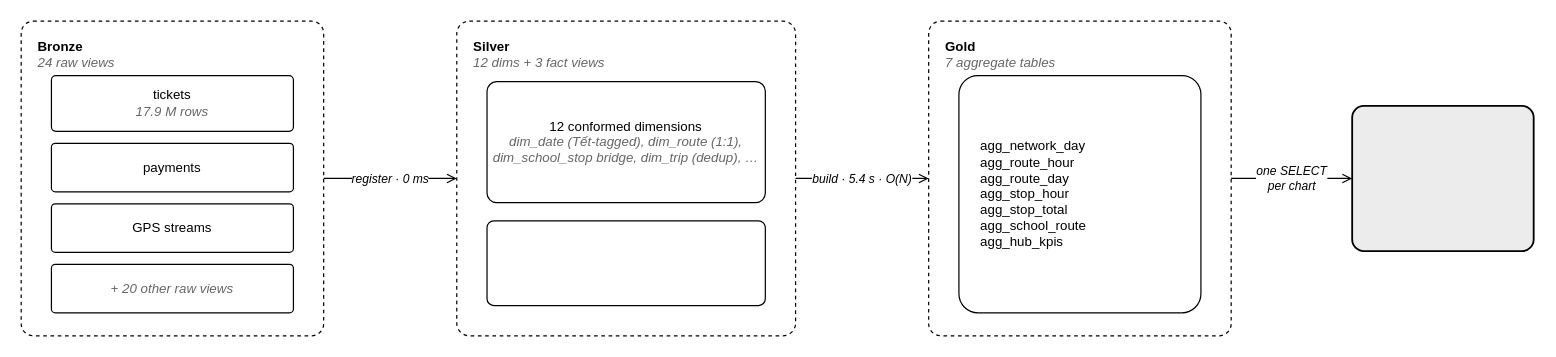
Image size: 1556x357. Some labels were removed from this diagram. The centre of each missing label's shape, as x and y in pixels:
"3 fact views boardings, gps_trips, stop_visits" belongs at [625,263].
"Analytical surface FastAPI · Jinja2 HTMX · Plotly" belongs at [1442,177].
